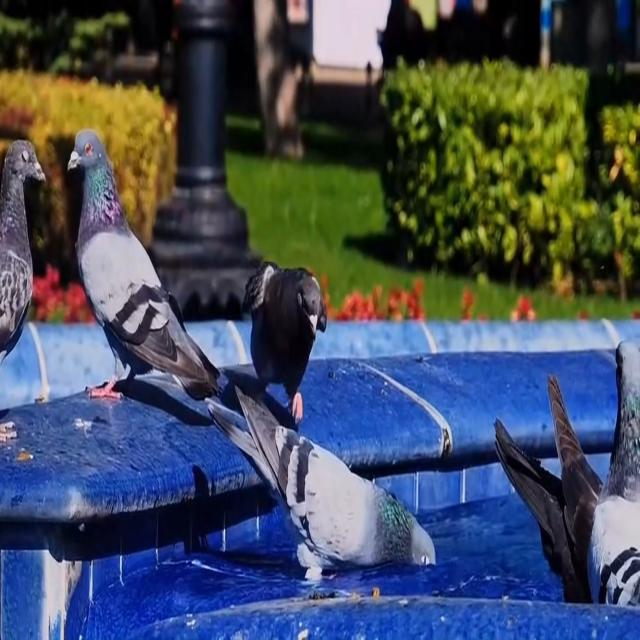bird: (195, 381, 455, 591), (61, 122, 220, 443), (486, 364, 640, 596), (240, 245, 332, 421), (595, 316, 640, 626), (0, 108, 46, 392)
